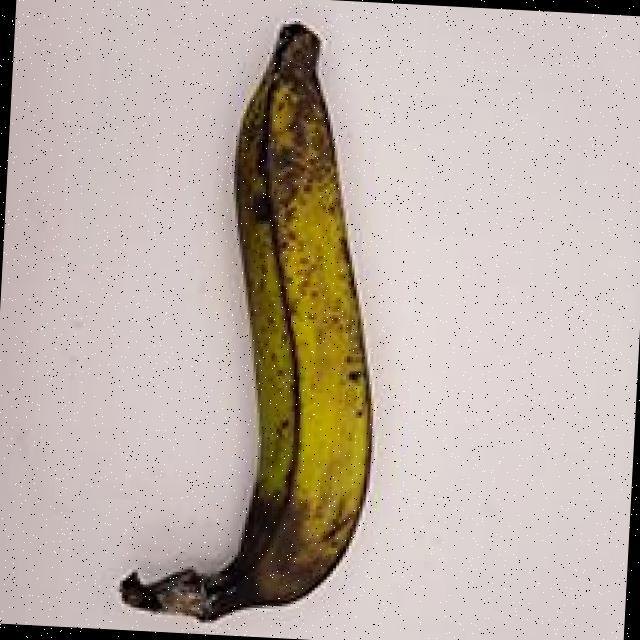Overripe: (89, 4, 443, 640)
